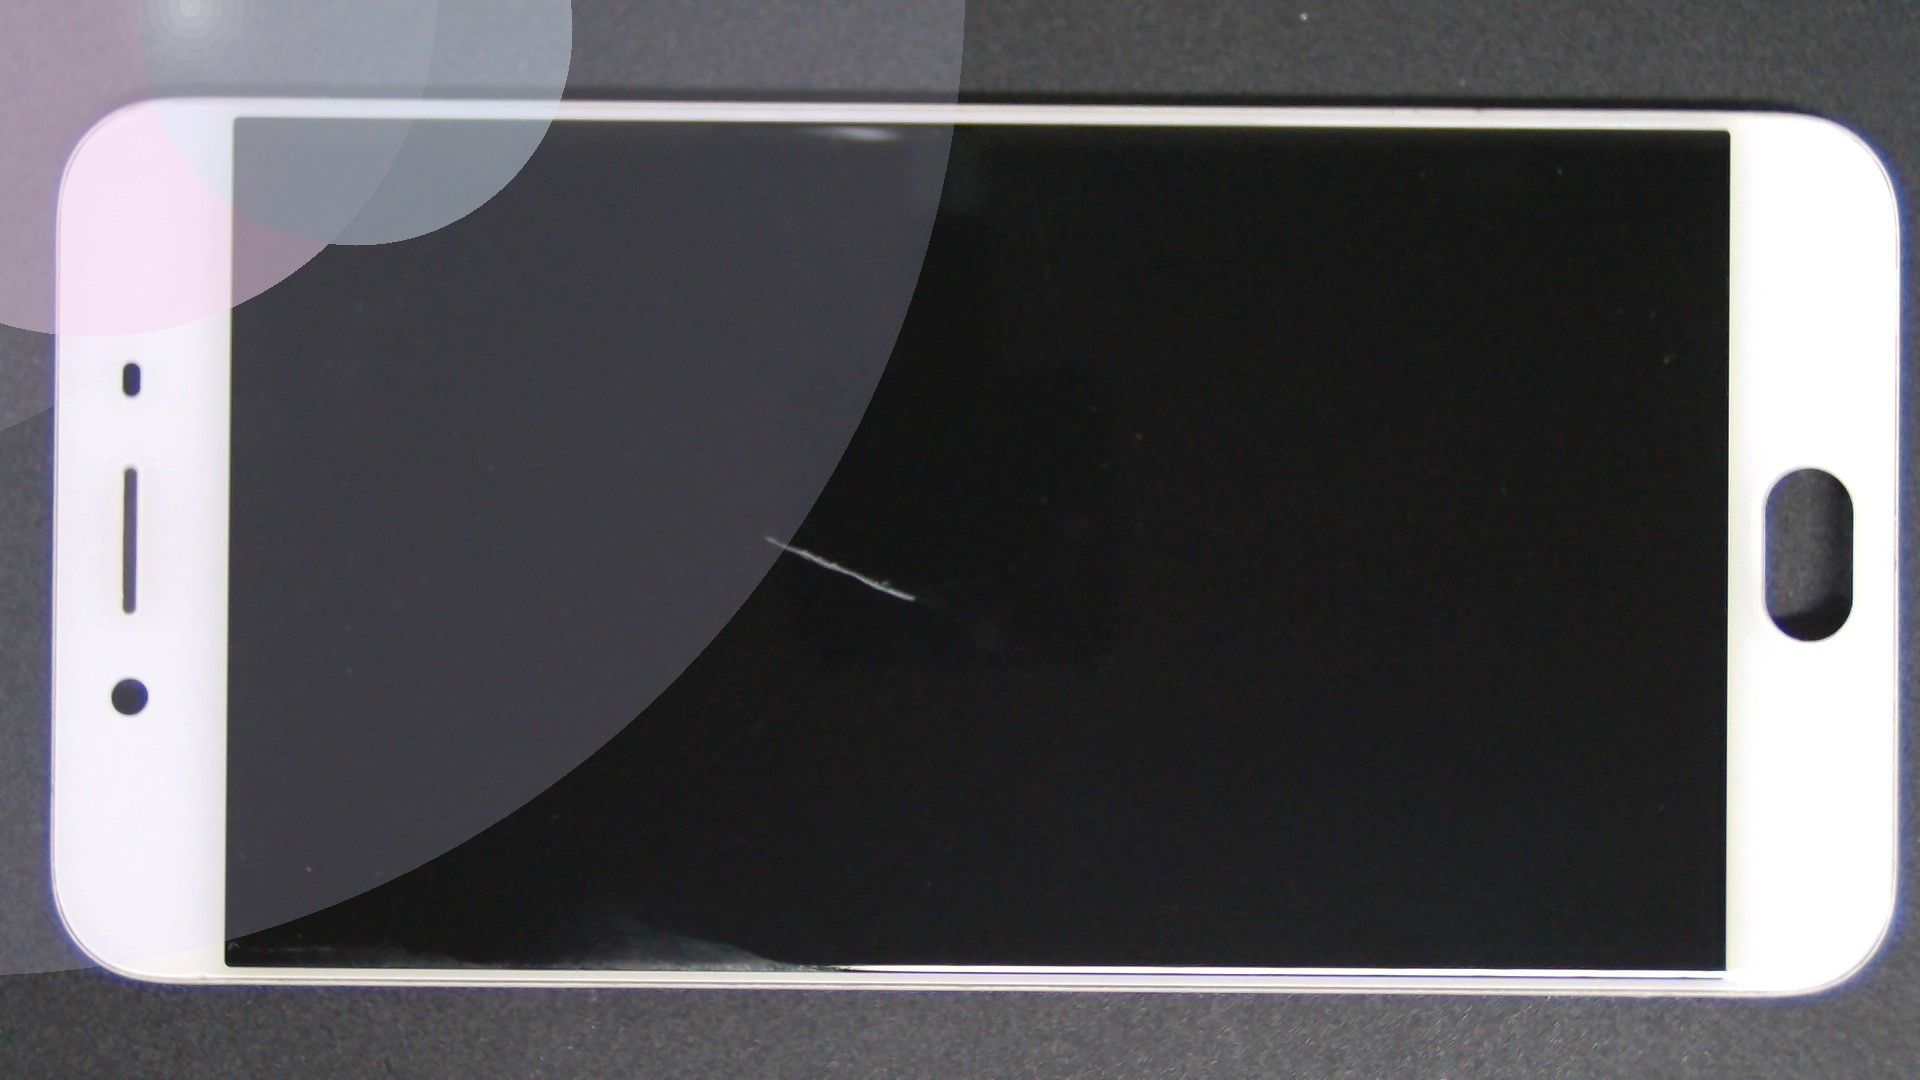oil: (381, 266, 1145, 802)
